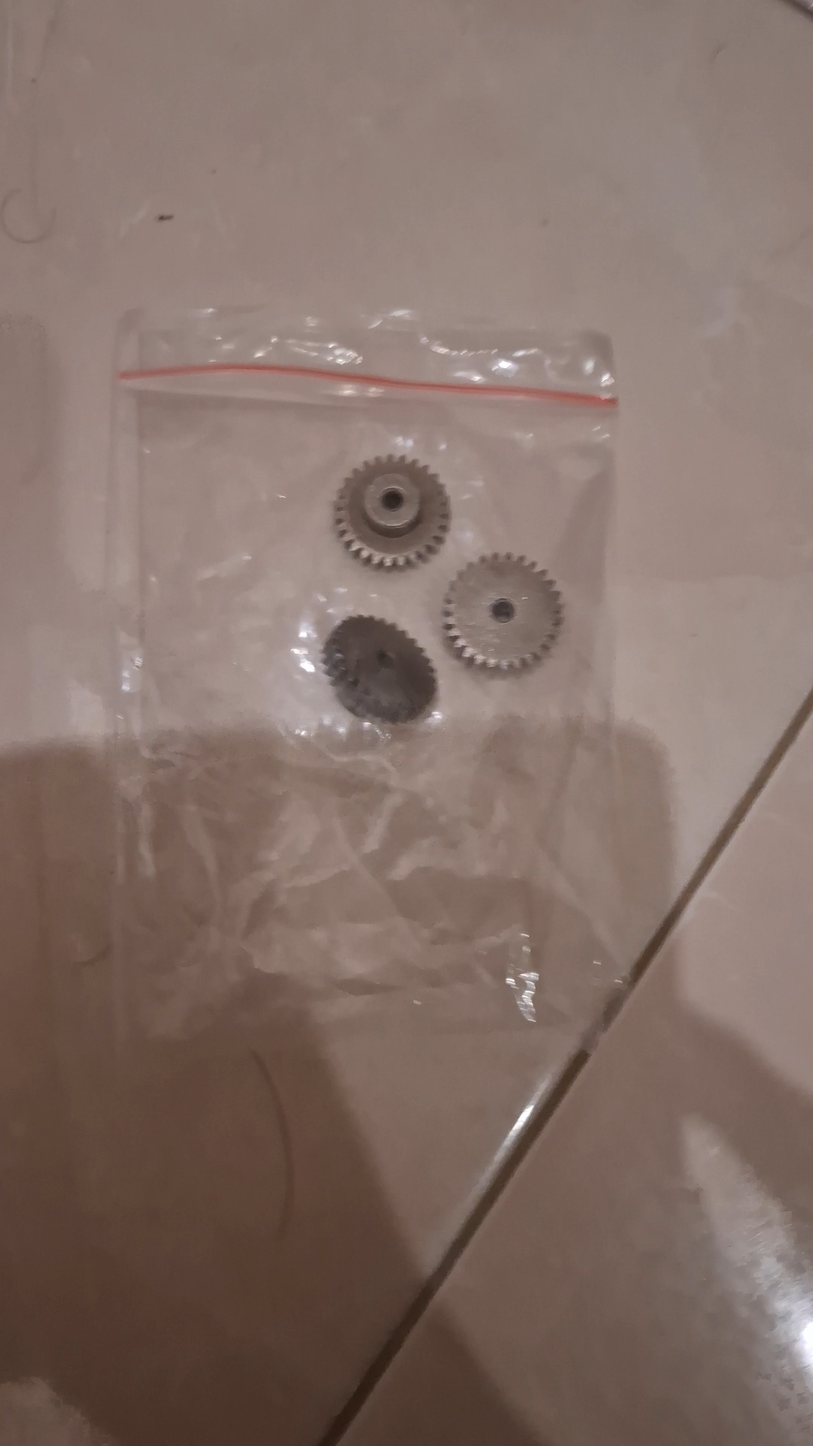spur gear: (438, 553, 565, 673), (331, 455, 452, 569), (318, 614, 438, 724)
